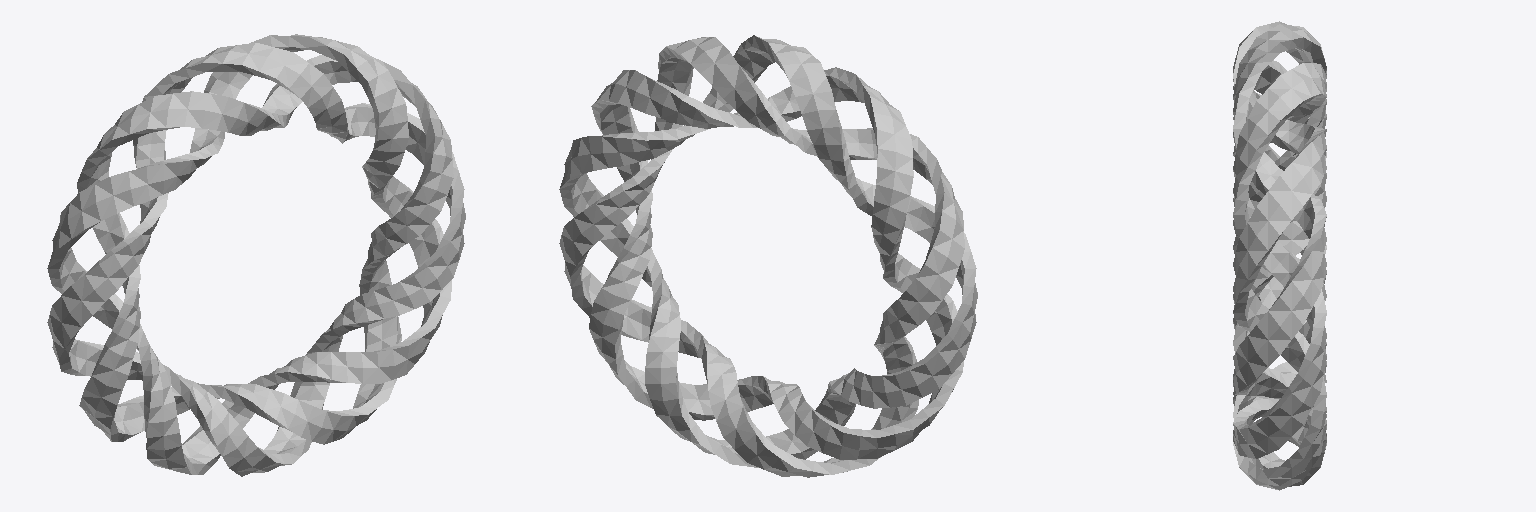
The model's file is toroidal_rind_3d_surface.obj.
3 views of the same model, side by side, from view 1: azimuth 30°, elevation 25°; view 2: azimuth 150°, elevation 25°; view 3: azimuth 270°, elevation 25° (orthographic).
Parts seen in each view (by area): view 1: Mesh_torustest; view 2: Mesh_torustest; view 3: Mesh_torustest.
Part boxes in pixels (bbox=[...]): Mesh_torustest: bbox=[47, 34, 465, 476]; Mesh_torustest: bbox=[559, 35, 977, 477]; Mesh_torustest: bbox=[1233, 21, 1326, 490].
Bounding box in the file's own units: 19.71 × 19.71 × 3.94.